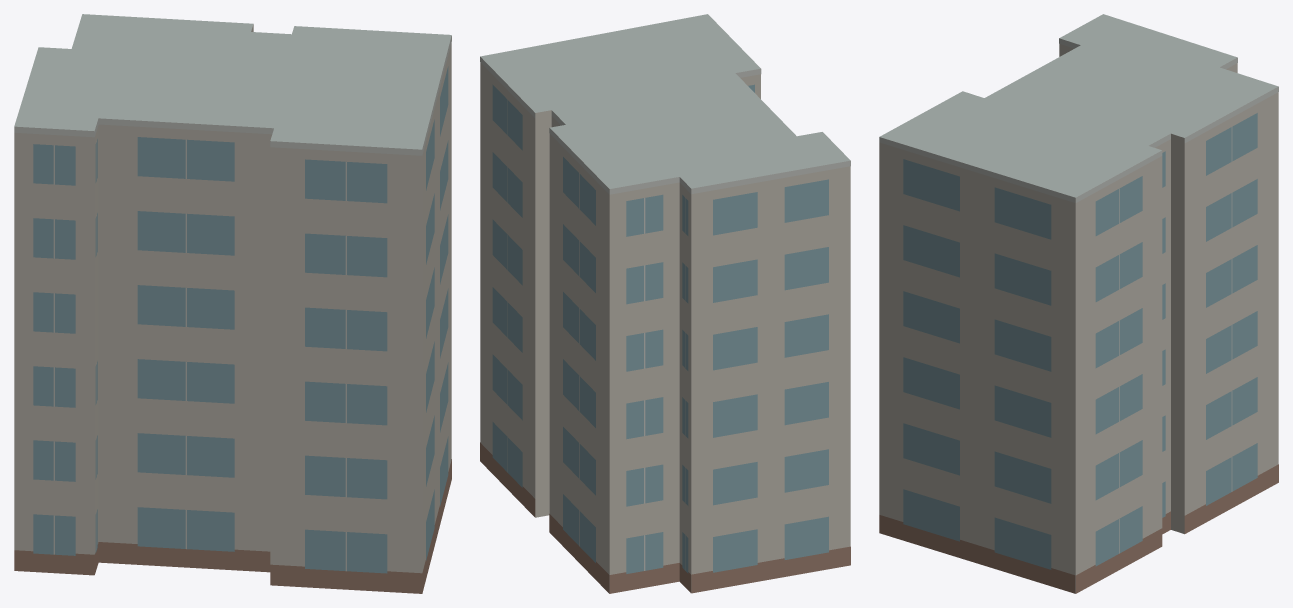
Rendered from survey-upis-32630877.glb.
3 views of the same model, side by side, from view 1: azimuth 30°, elevation 25°; view 2: azimuth 150°, elevation 25°; view 3: azimuth 270°, elevation 25° (orthographic). The views are drawn at different scales.
Visible parts, largest first — view 1: survey-upis-32630877.tmp; view 2: survey-upis-32630877.tmp; view 3: survey-upis-32630877.tmp.
Boxes of the visible parts, left/top/right/bottom form: survey-upis-32630877.tmp: left=14, top=14, right=451, bottom=593; survey-upis-32630877.tmp: left=480, top=14, right=850, bottom=593; survey-upis-32630877.tmp: left=879, top=14, right=1278, bottom=593.
Bounding box in the file's own units: 17.56 × 17.65 × 16.14.
